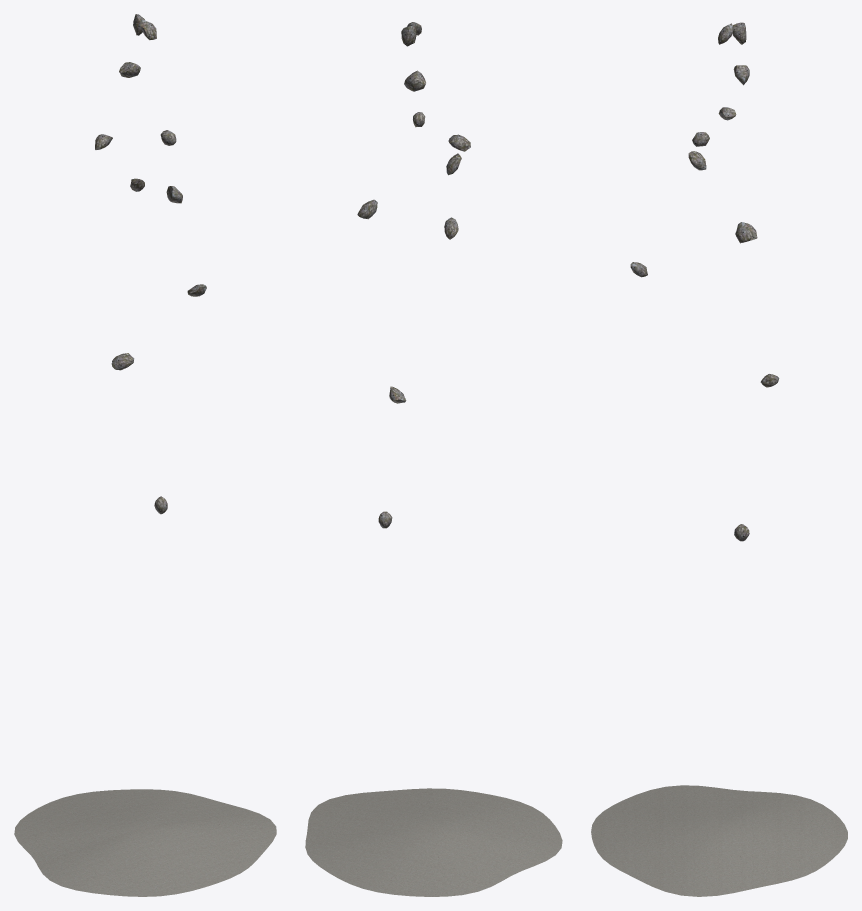
Rendered from PAV-BAS-002_anim.glb.
3 views of the same model, side by side, from view 1: azimuth 30°, elevation 25°; view 2: azimuth 150°, elevation 25°; view 3: azimuth 270°, elevation 25° (orthographic).
Visible parts, largest first — view 1: PAV-BAS-002_anim_monte; view 2: PAV-BAS-002_anim_monte; view 3: PAV-BAS-002_anim_monte.
Boxes of the visible parts, <box> form: PAV-BAS-002_anim_monte: <box>14,789,276,896</box>; PAV-BAS-002_anim_monte: <box>305,788,562,896</box>; PAV-BAS-002_anim_monte: <box>591,785,847,896</box>.
Bounding box in the file's own units: 0.449 × 1.54 × 0.4363.
Materials: 2 (2 with a texture image).
